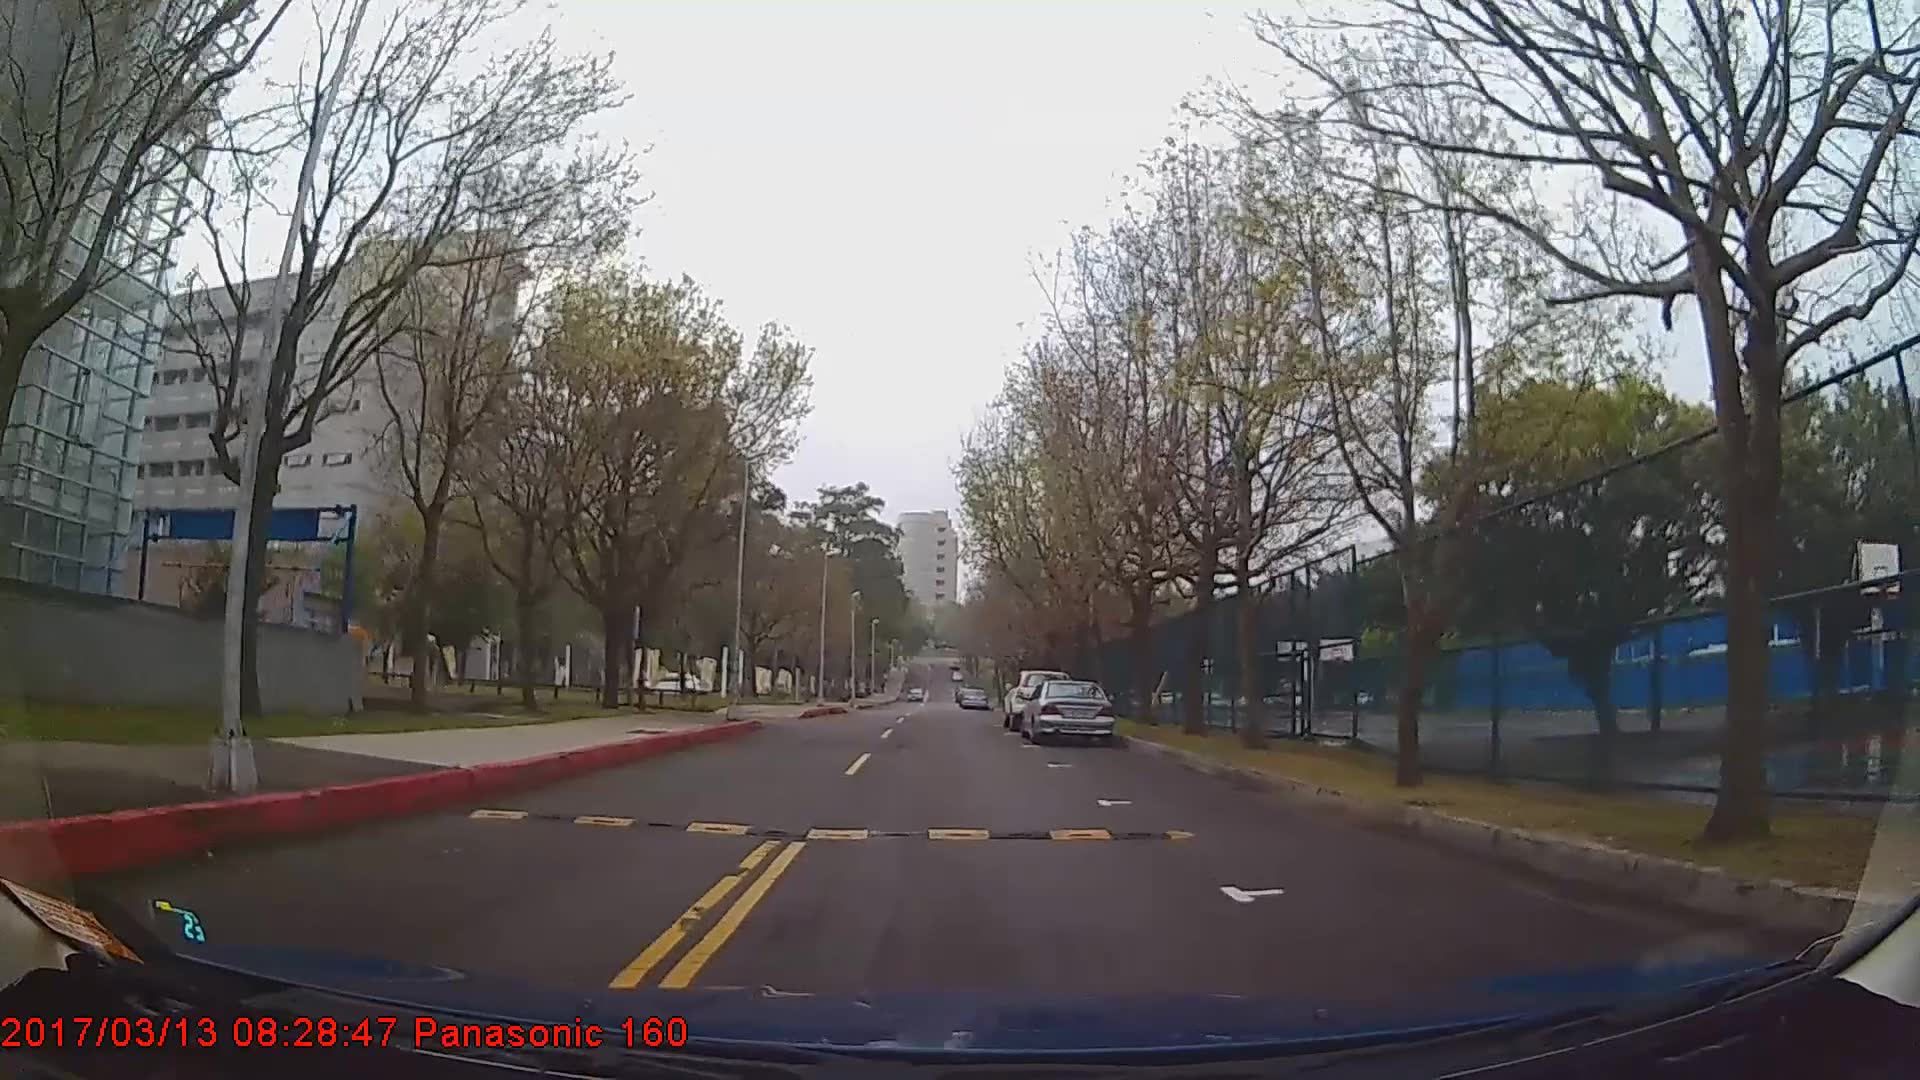vehicle: (1021, 679, 1117, 745), (1005, 670, 1073, 735), (957, 688, 986, 711)
